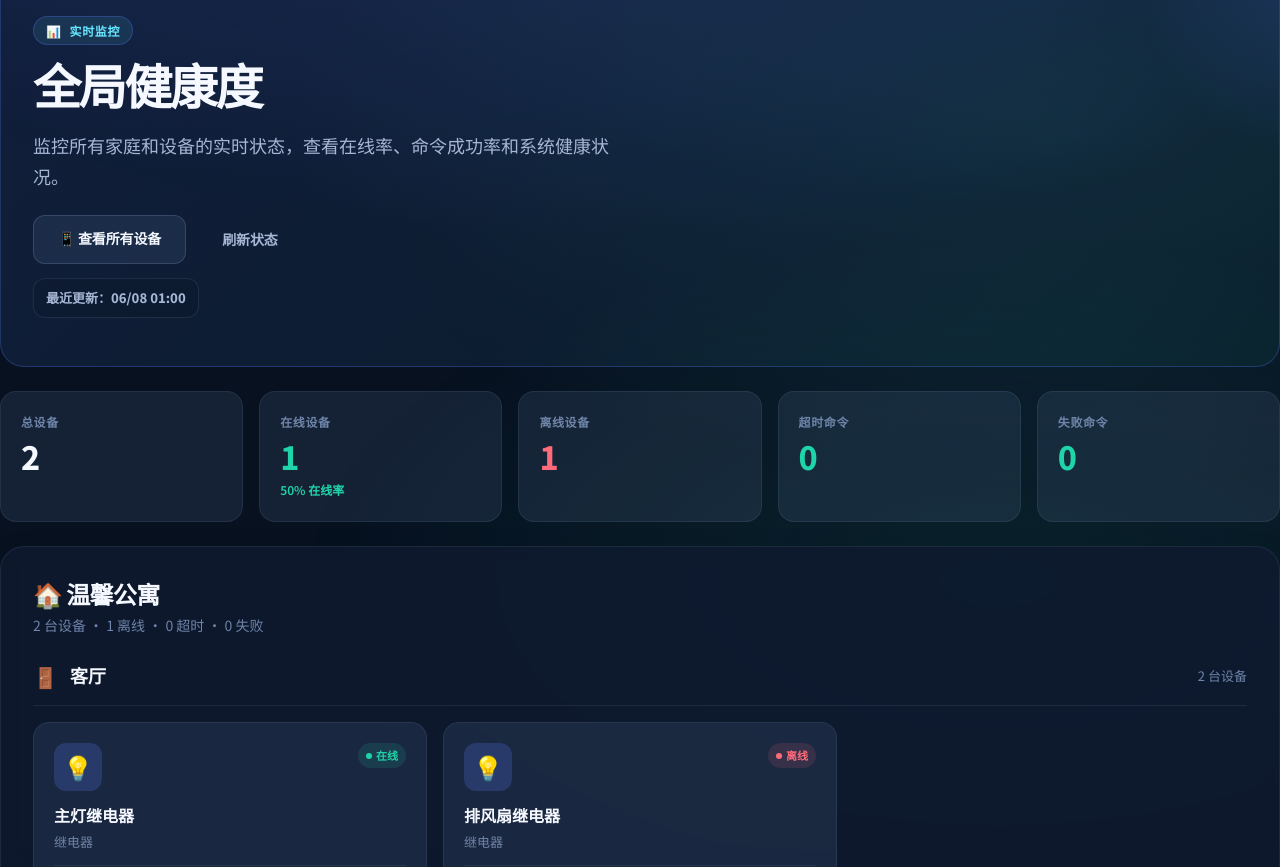
Test: HomesClient › refreshes the global snapshot on demand
Click the button "刷新状态": (250, 239) [198,215,302,264]
(page scrolled)
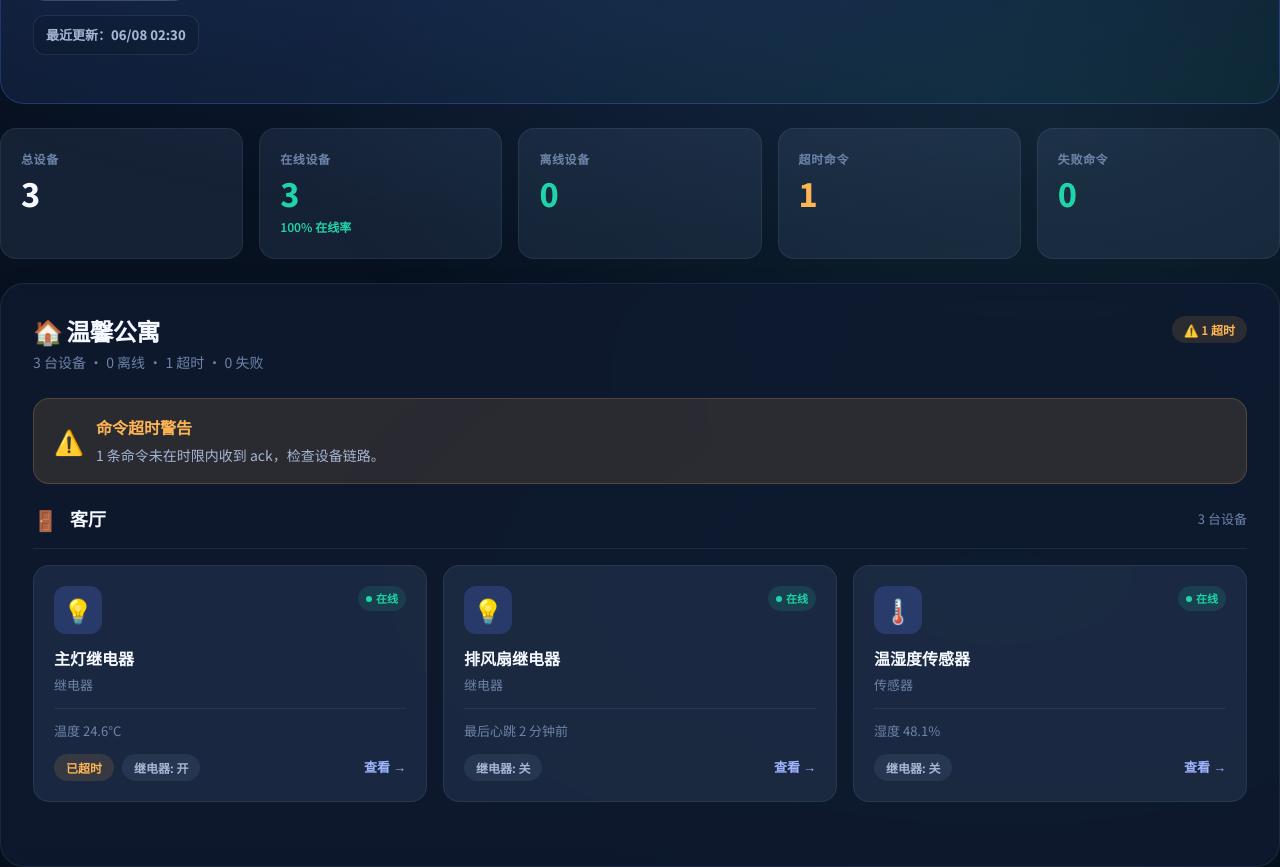
Check: the message shows "最近更新", box [46,25,186,44]
Check: the text "温湿度传感器" is shown, box [874,646,970,670]
Check: the text "已超时" is shown, box [54,754,114,781]
